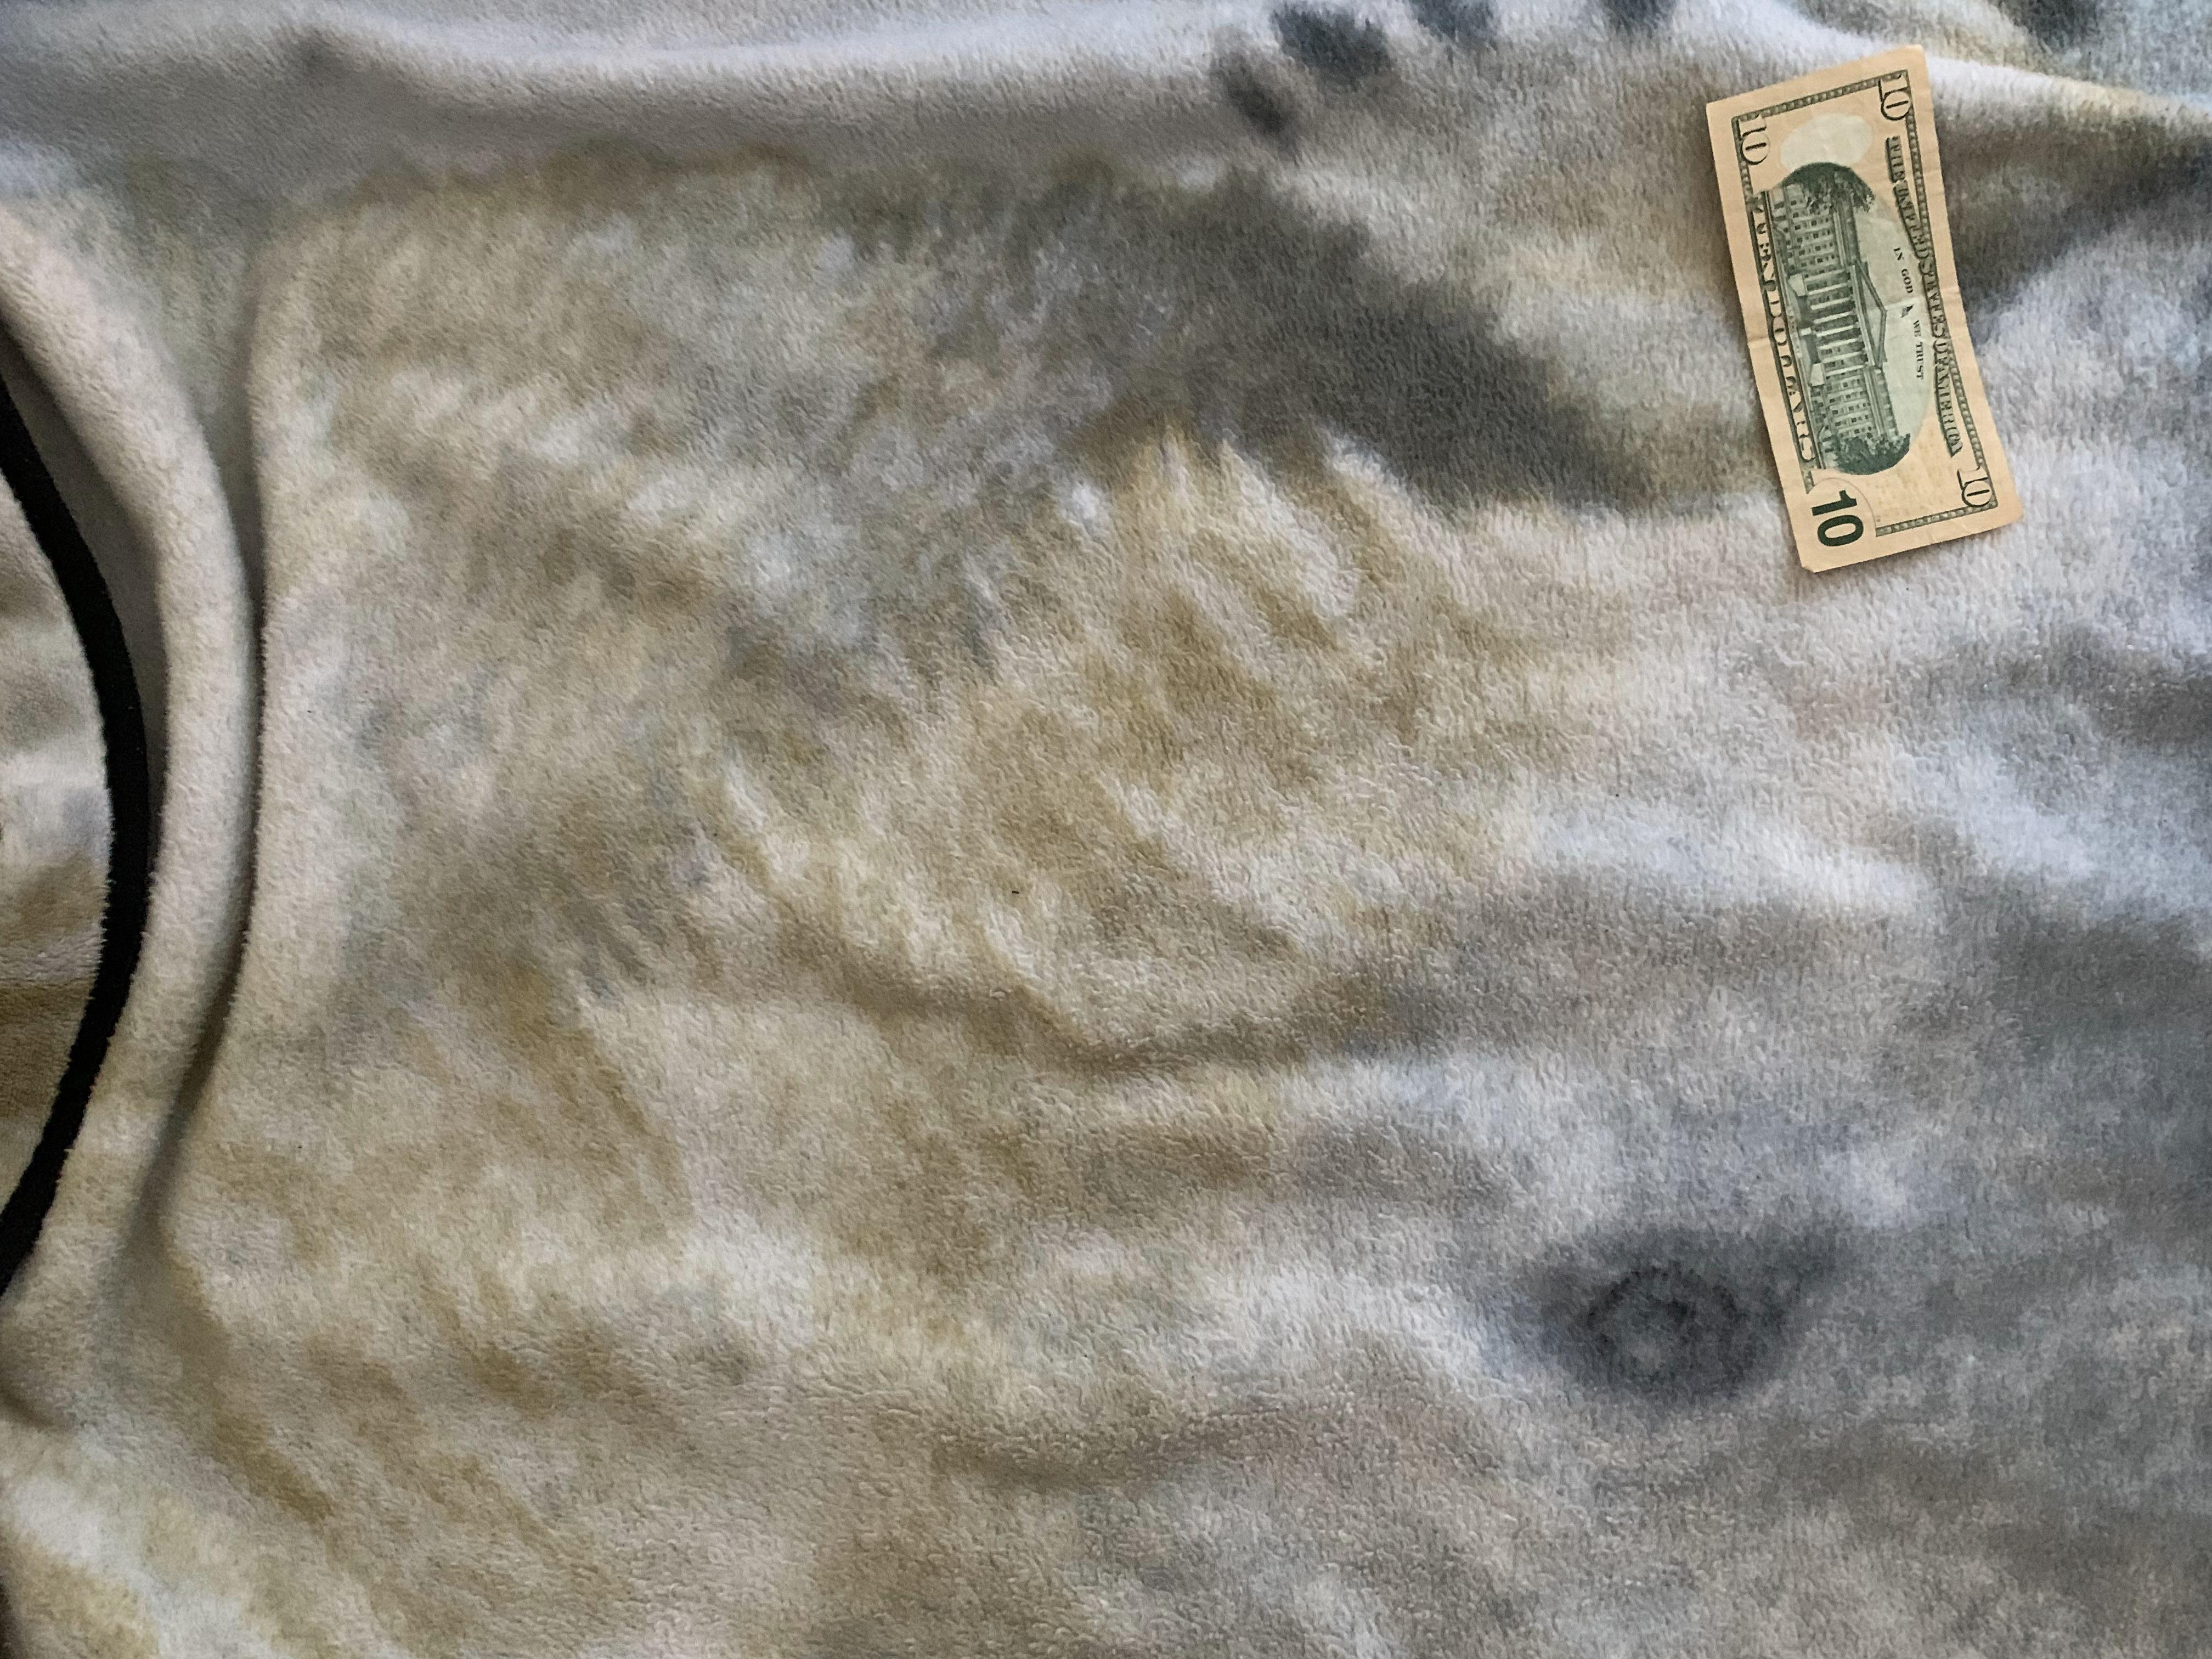TenBill: (1700, 38, 2024, 580)
